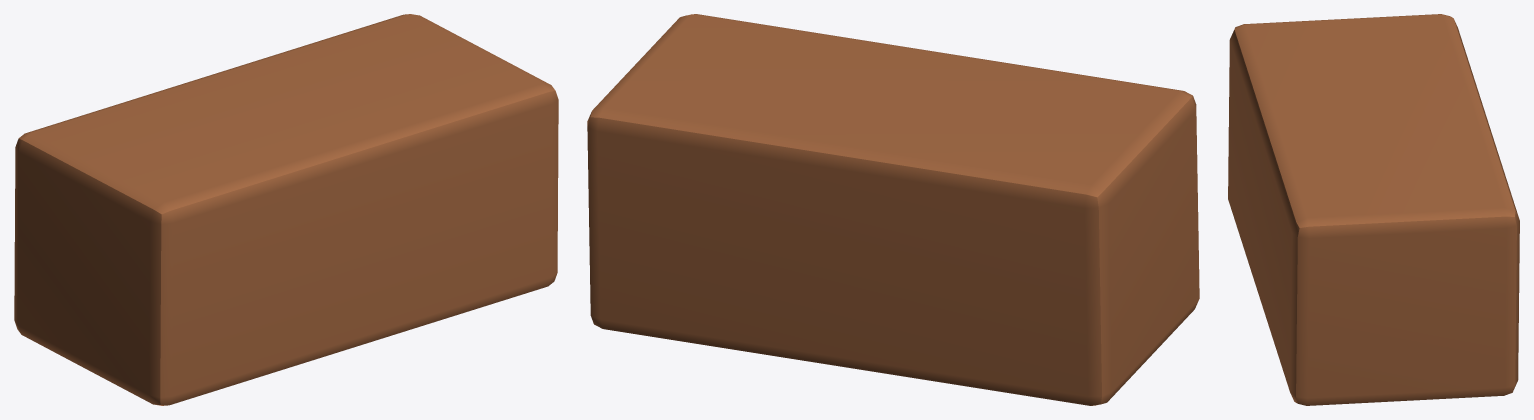
Rendered from lone brick.fbx.
The picture shows the model from 3 angles, left to right: view 1: azimuth 30°, elevation 25°; view 2: azimuth 150°, elevation 25°; view 3: azimuth 270°, elevation 25°; orthographic projection. The views are drawn at different scales.
Parts seen in each view (by area): view 1: polySurface22; view 2: polySurface22; view 3: polySurface22.
Boxes of the visible parts, x1,y1,x2,y2 form: polySurface22: (14, 14, 558, 405); polySurface22: (587, 14, 1199, 405); polySurface22: (1228, 14, 1519, 405).
Size of the model in its own units: 0.4355 by 0.1863 by 0.2521.
